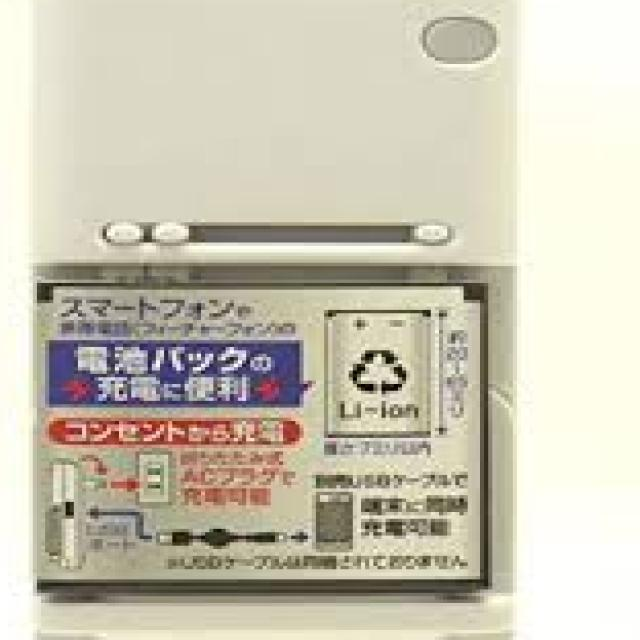organic: (5, 4, 518, 639)
